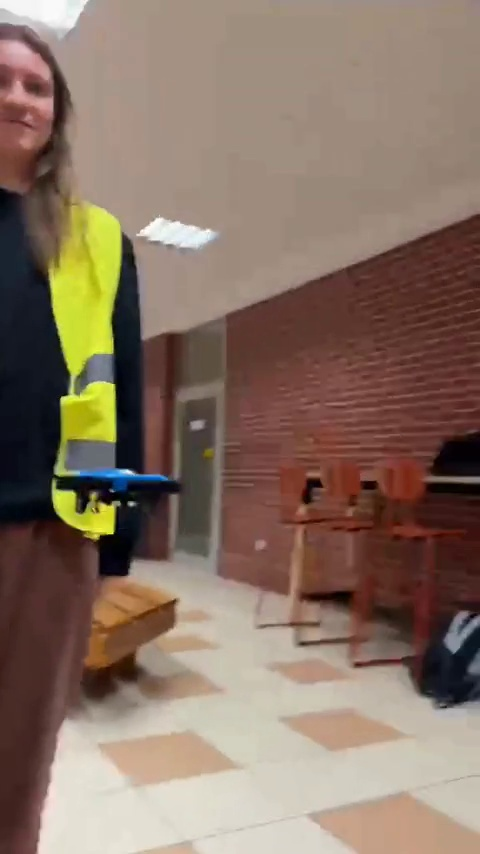drone: (50, 454, 176, 506)
vest: (2, 63, 158, 854)
